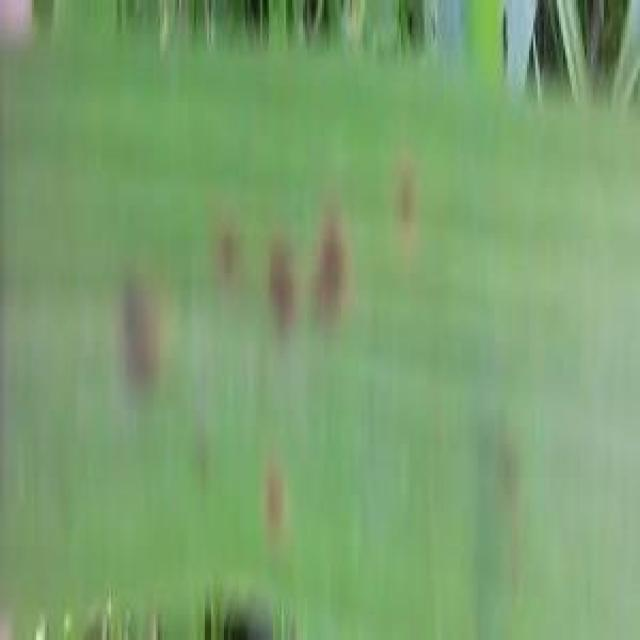Brown_Spot: (110, 270, 169, 402), (309, 213, 364, 333), (200, 190, 244, 316), (251, 462, 307, 554), (260, 230, 299, 340), (392, 164, 435, 245), (191, 411, 220, 497)
